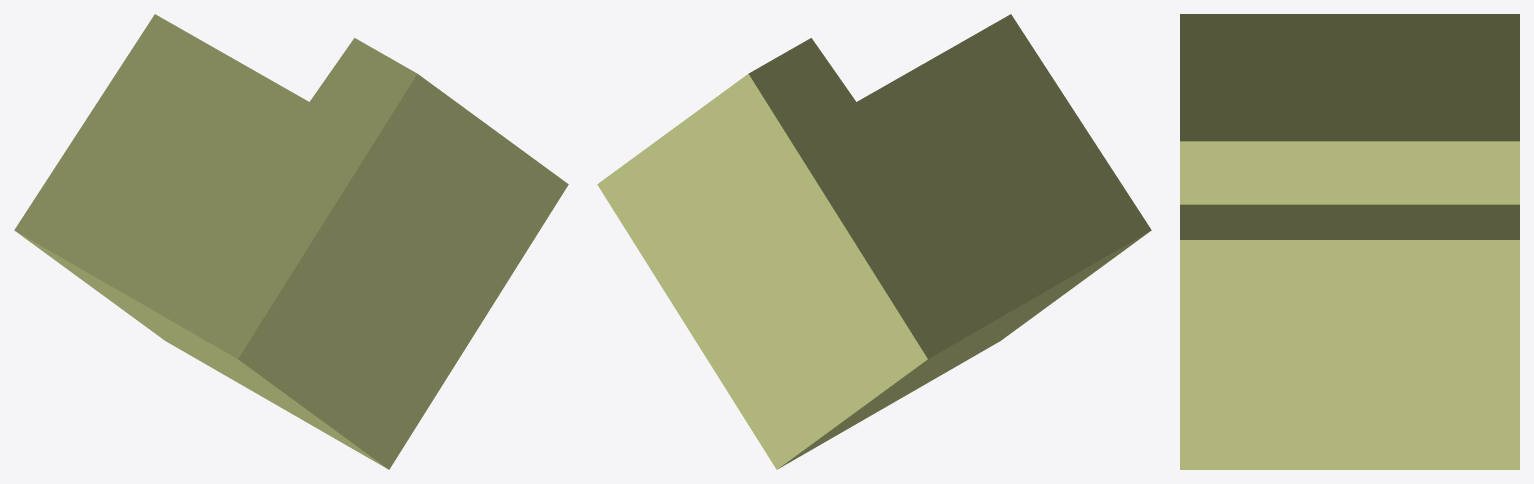
The picture shows the model from 3 angles, left to right: view 1: azimuth 30°, elevation 25°; view 2: azimuth 150°, elevation 25°; view 3: azimuth 270°, elevation 25°; orthographic projection. The views are drawn at different scales.
Parts seen in each view (by area): view 1: 0_1_2_0_1_3_0_1_3_0_0; view 2: 0_1_2_0_1_3_0_1_3_0_0; view 3: 0_1_2_0_1_3_0_1_3_0_0.
Part boxes in pixels (x1,y1,x2,y2): 0_1_2_0_1_3_0_1_3_0_0: (14,14,568,469); 0_1_2_0_1_3_0_1_3_0_0: (597,14,1151,469); 0_1_2_0_1_3_0_1_3_0_0: (1180,14,1519,469).
Bounding box in the file's own units: 9.24 × 8 × 6.
